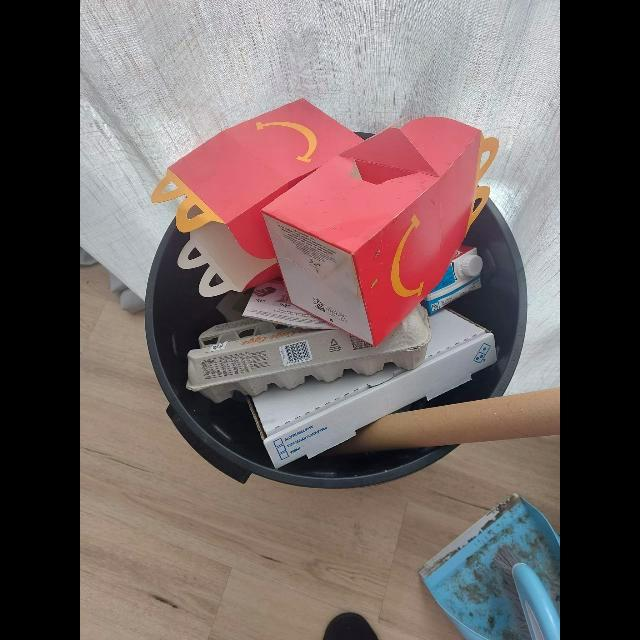cardboard: (150, 98, 499, 346), (230, 278, 498, 470), (186, 305, 432, 404)
